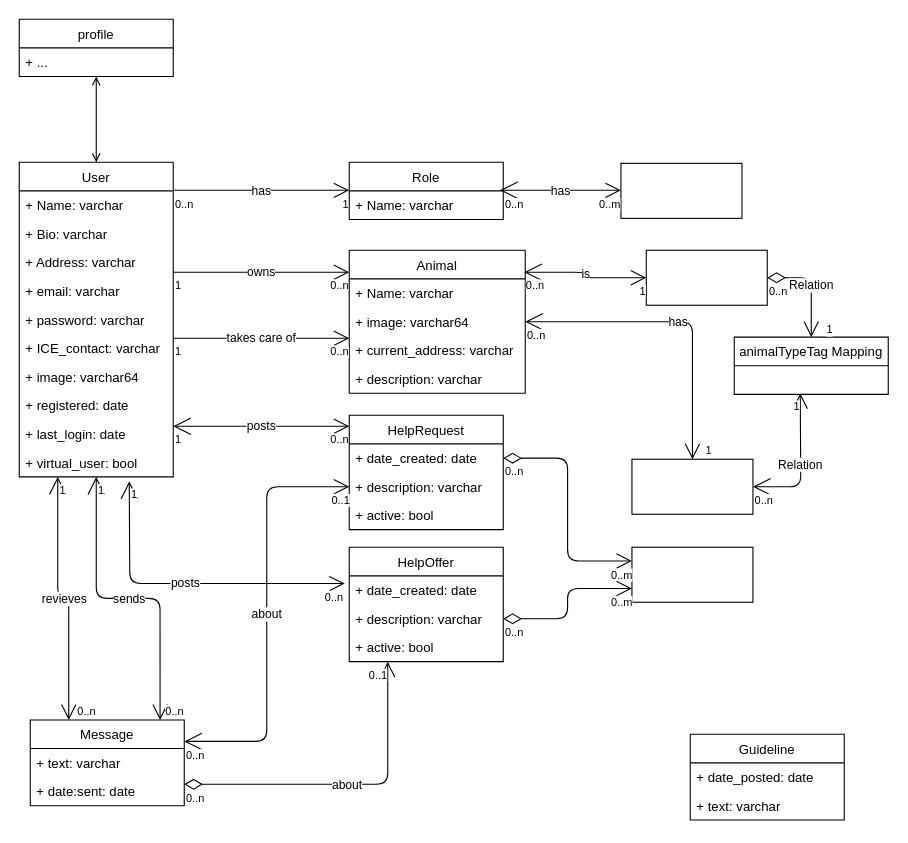
Some shapes in this 908 by 843 pixel diagram are drawn without their labels. Each missing label, with the centre of its shape:
«enumeration» AnimalTag: point 692,486
«enumeration» AnimalType: point 706,277
«enumeration» HelpType: point 692,574
«enumeration» Permission: point 681,190
